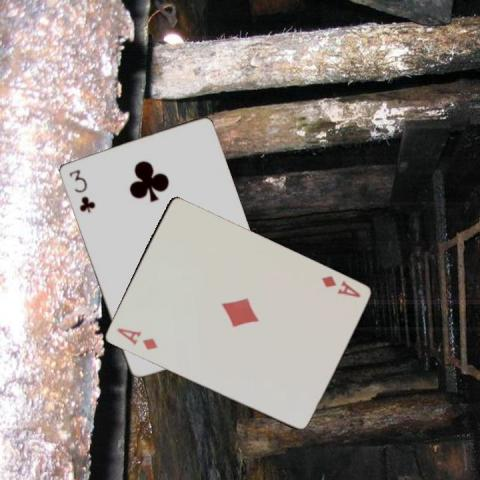3c: (65, 167, 97, 214)
Ad: (114, 325, 160, 351), (317, 273, 362, 299)
